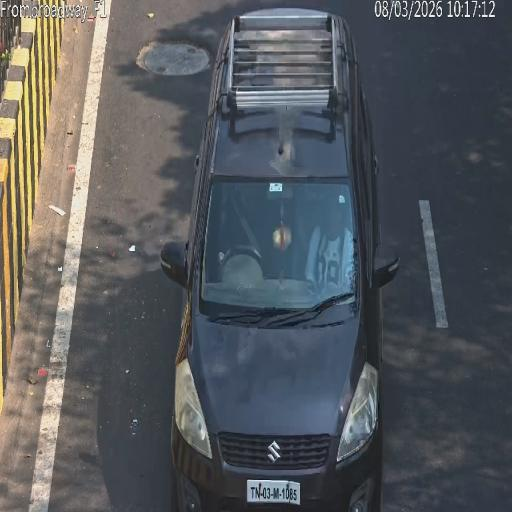person_with_seatbelt: (224, 190, 264, 252)
person_without_seatbelt: (311, 223, 353, 284)
